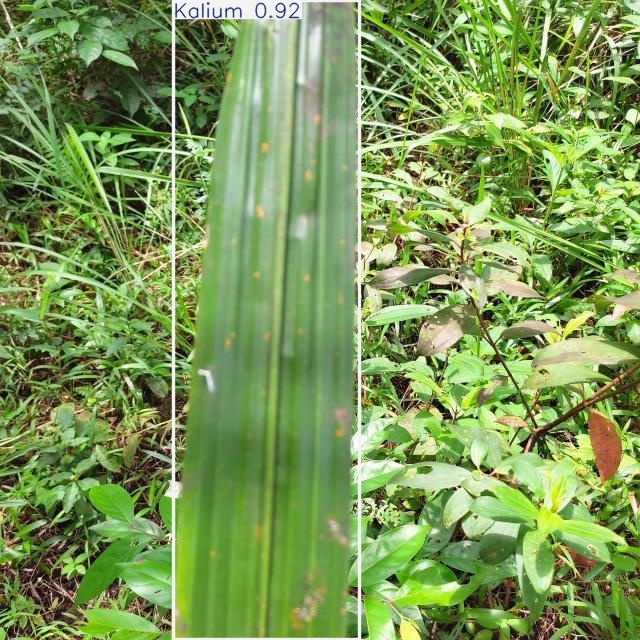Kalium: (174, 0, 360, 640)
